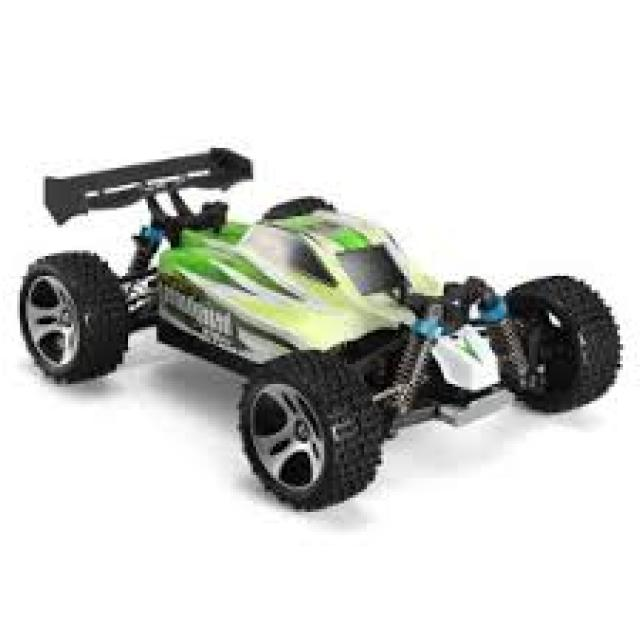Car: (20, 142, 626, 512)
